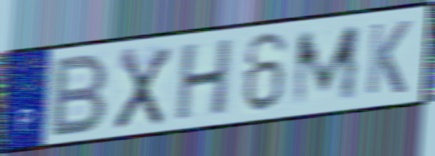6: (241, 30, 290, 116)
B: (47, 50, 112, 140)
H: (172, 35, 236, 124)
K: (363, 18, 413, 98)
M: (289, 21, 362, 110)
X: (111, 44, 174, 132)
